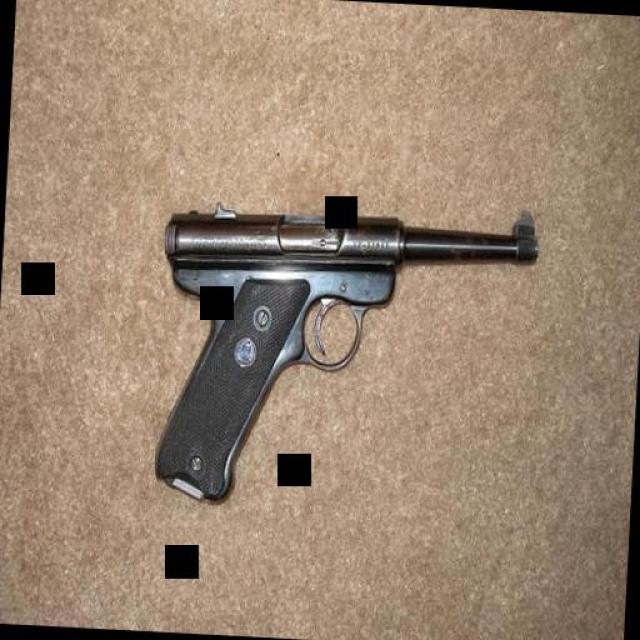gun: (144, 192, 540, 512)
